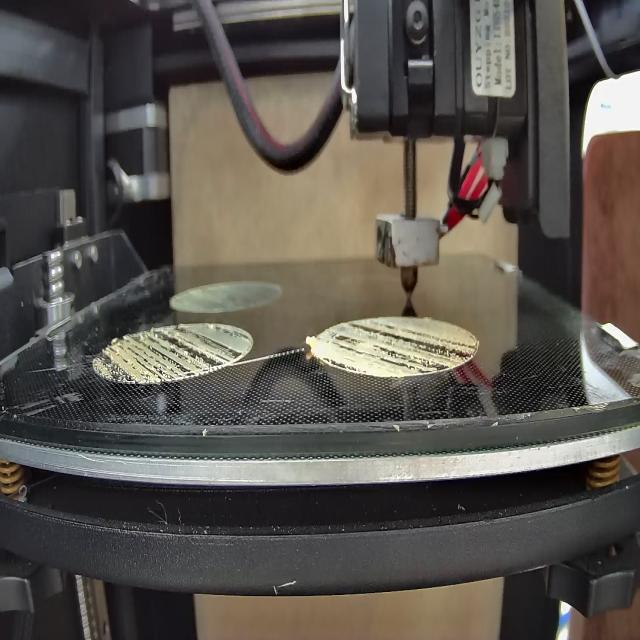under_extrusion: (321, 324, 481, 375), (96, 328, 247, 381)
